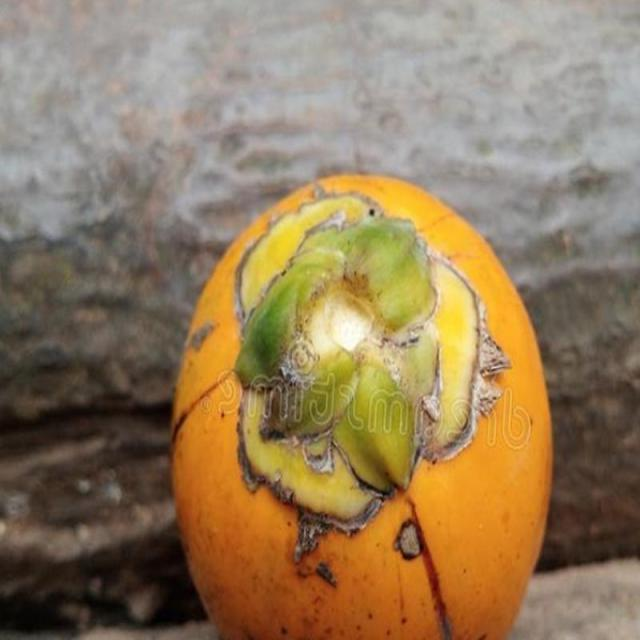good: (170, 177, 552, 639)
